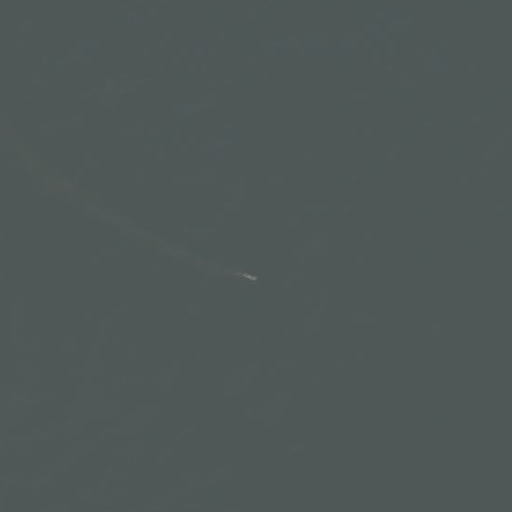ship: (239, 270, 262, 284)
